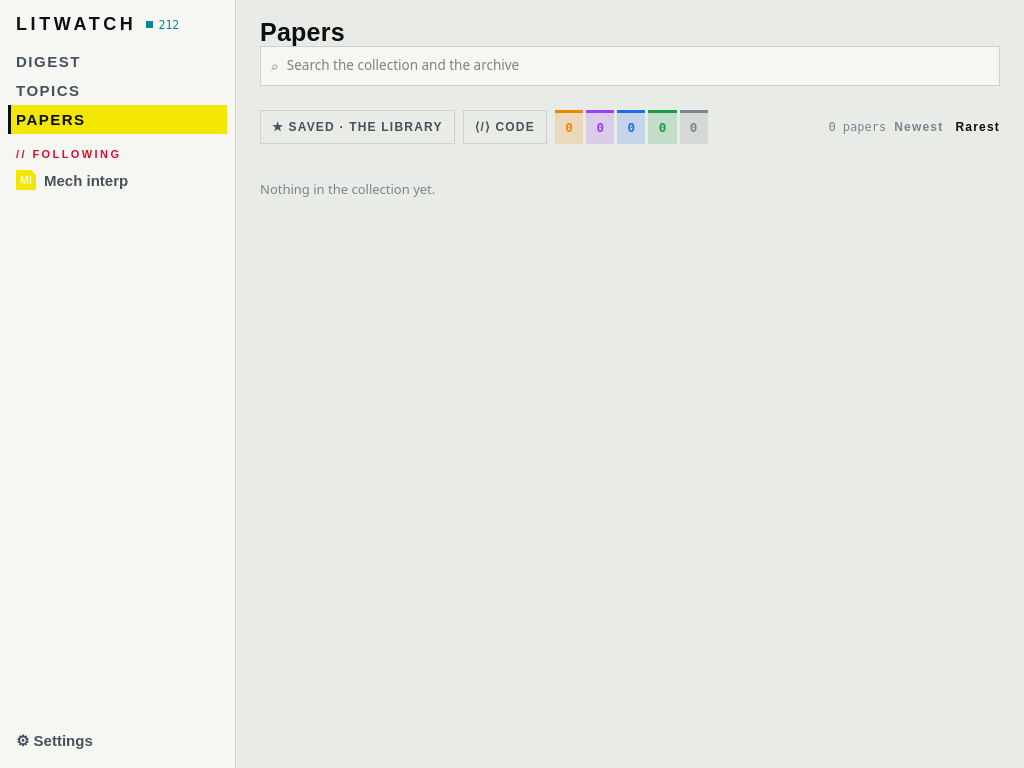
Test: The shell's sidebar › reads the summary once, and neither refetches nor re-renders as the reader switches between pages
Click the link "MI Mech interp" at (72, 180), box [16,170,128,190]
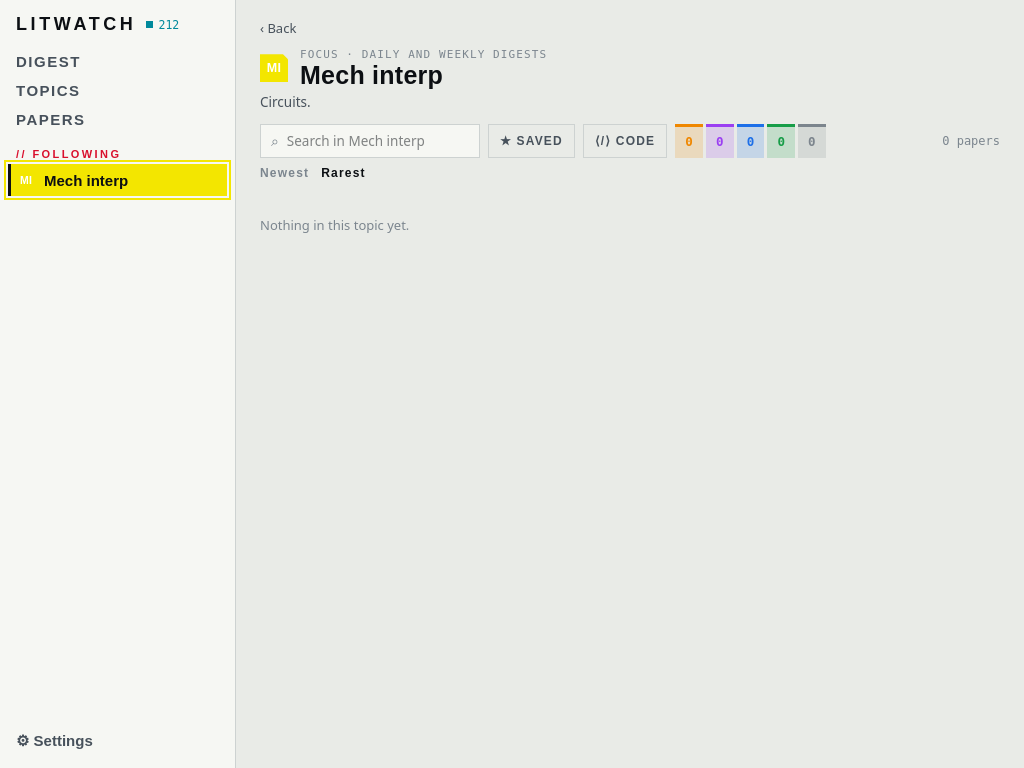
Expected: the text "Mech interp" below "focus" is shown, [300,61,443,89]
Click the link "Papers" at (51, 120), box [16,111,86,128]
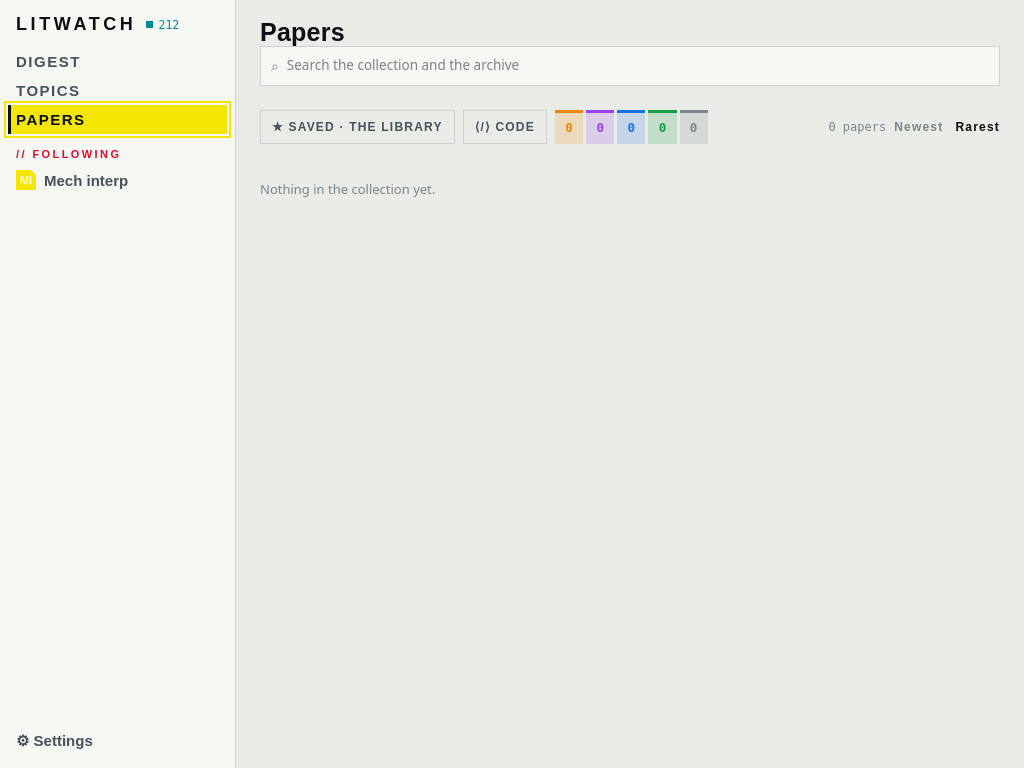
Expected: the text "Papers" is shown, [260,18,345,46]
Click the link "MI Mech interp" at (72, 180), box [16,170,128,190]
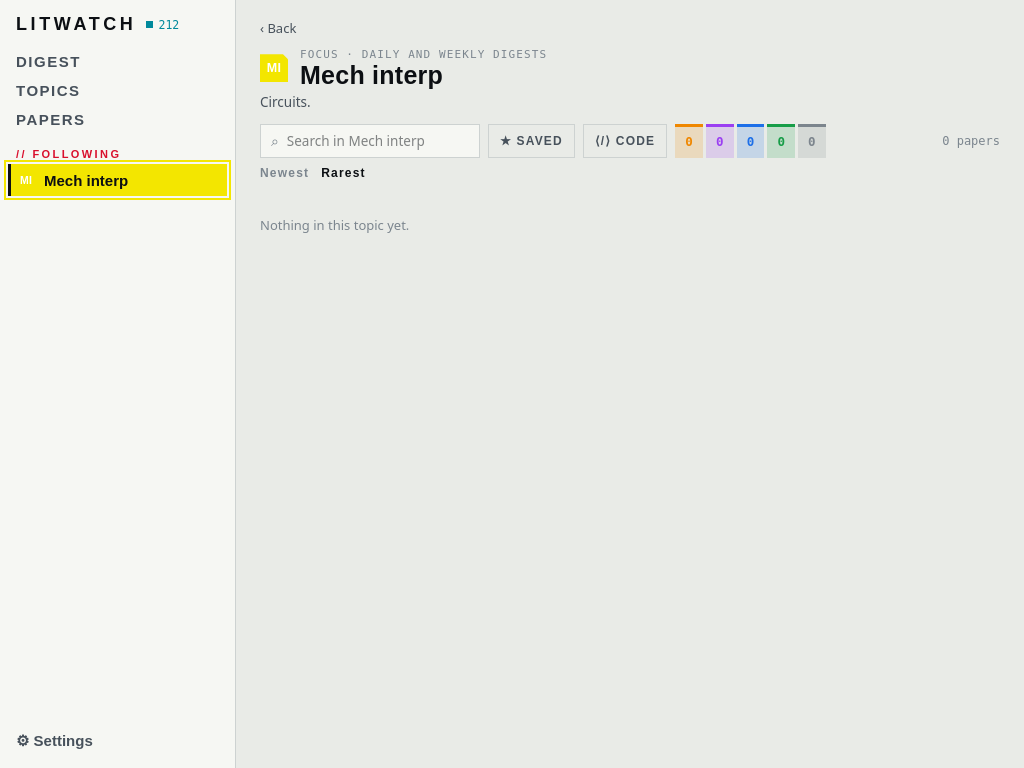
Expected: the text "Mech interp" below "focus" is shown, [300,61,443,89]
Click the link "Papers" at (51, 120), box [16,111,86,128]
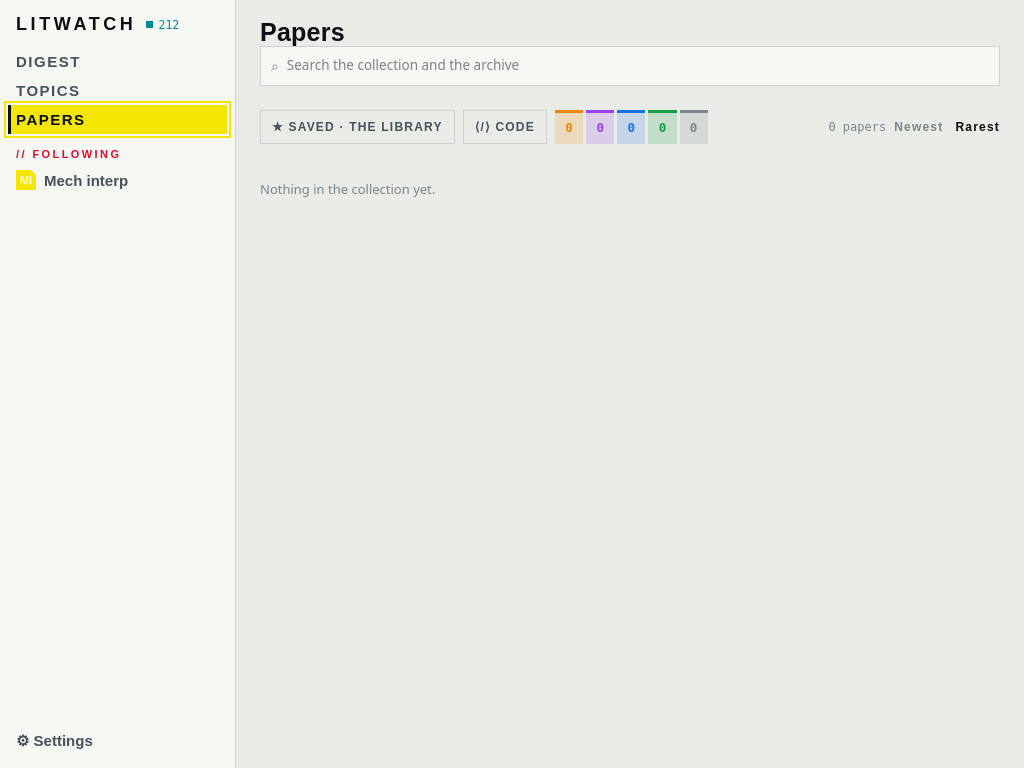
Expected: the text "Papers" is shown, [260,18,345,46]
